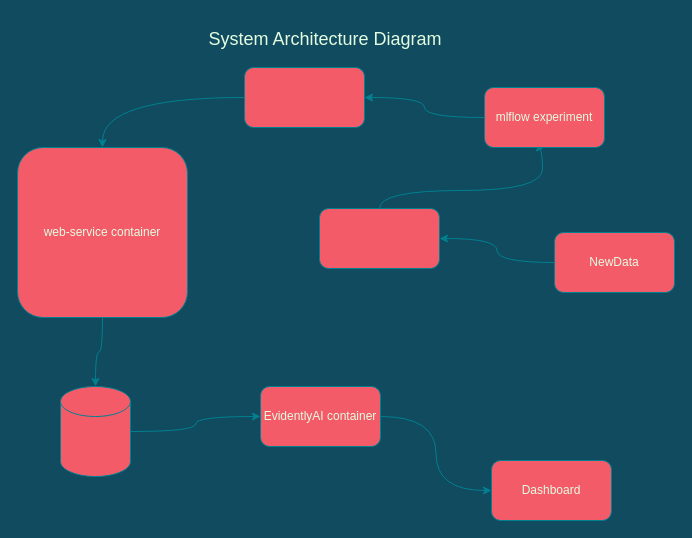
This 692x538 diagram has some shape labels left out. The shapes that lost their labels are listed below. From the top down, each one's box as (x1, y1, x2, y2) in pixels, then its label:
(244, 66, 364, 128): production model
(318, 208, 440, 268): prefect orchestraion
(60, 386, 130, 476): MongoDB container
